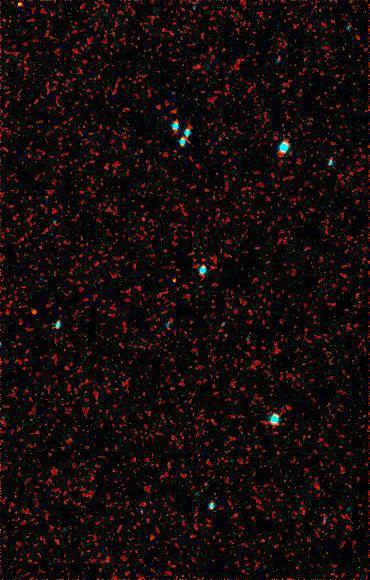star: (18, 297, 48, 327)
